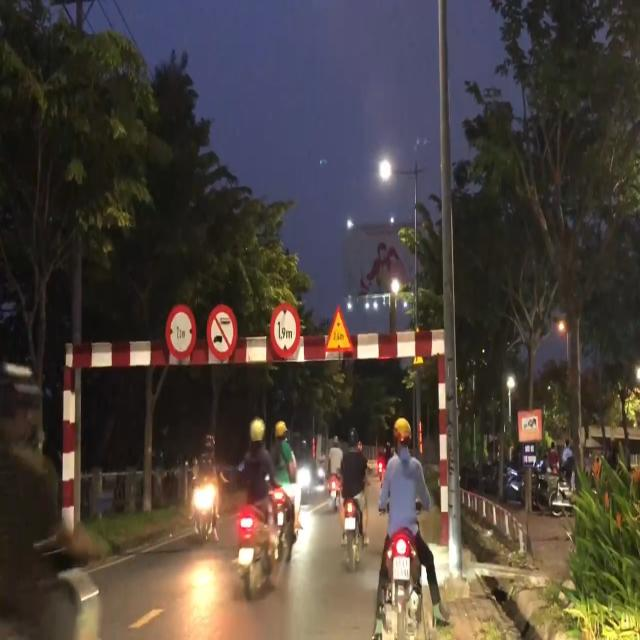Bien bao cam xe oto khach va xe oto tai: (206, 296, 243, 366)
Bien bao chieu cao tinh khong thuc te: (323, 301, 354, 356)
Bien bao han che chieu cao: (268, 295, 303, 368)
